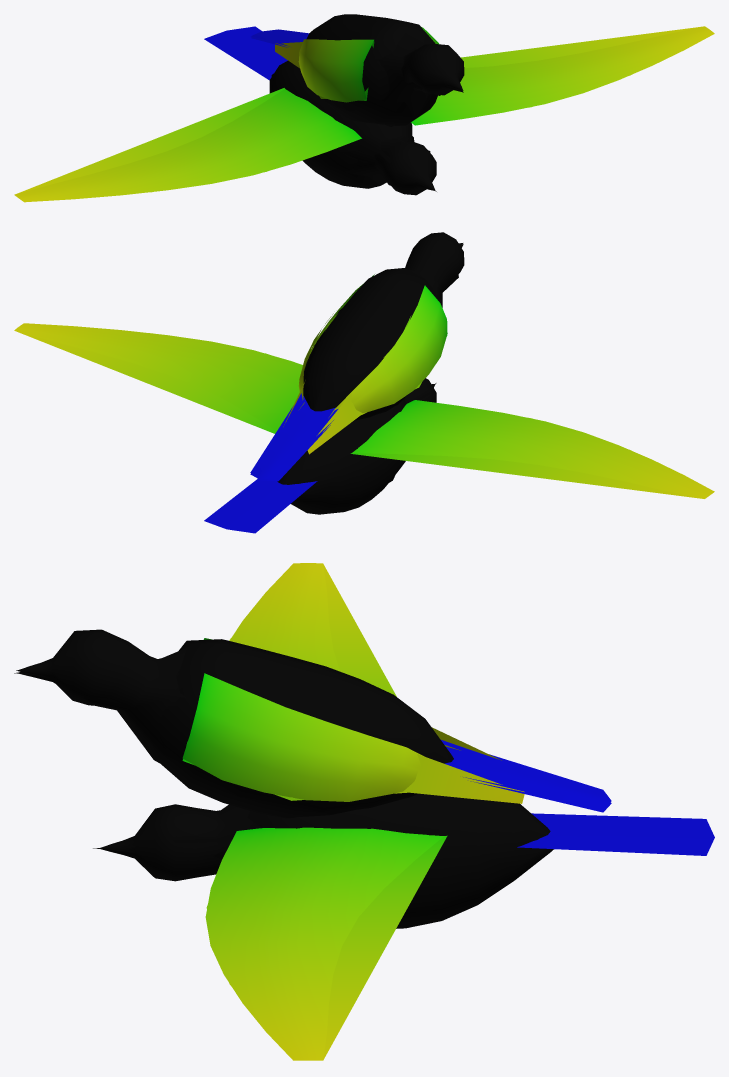
File: dove.glb
The picture shows the model from 3 angles, top to bottom: view 1: azimuth 30°, elevation 25°; view 2: azimuth 150°, elevation 25°; view 3: azimuth 270°, elevation 25°; orthographic projection. The views are drawn at different scales.
Visible parts, largest first — view 1: fly0, stand0, fly2, stand1, fly1; view 2: fly0, stand0, fly2, stand1, fly1; view 3: fly0, stand0, fly2, stand1, fly1.
Part boxes in pixels (box(x1,y1,x2,y2)): fly0: box(14, 26, 714, 202); stand0: box(250, 14, 464, 125); fly2: box(15, 26, 703, 194); stand1: box(251, 29, 463, 126); fly1: box(17, 29, 630, 200); fly0: box(14, 323, 714, 533); stand0: box(250, 232, 464, 479); fly2: box(15, 331, 702, 498); stand1: box(250, 244, 463, 481); fly1: box(90, 333, 712, 530); fly0: box(99, 563, 714, 1060); stand0: box(16, 629, 611, 818); fly2: box(93, 564, 447, 1059); stand1: box(14, 648, 611, 812); fly1: box(98, 613, 714, 1060).
Size of the model in its own units: 0.6 by 0.1637 by 0.3575.
